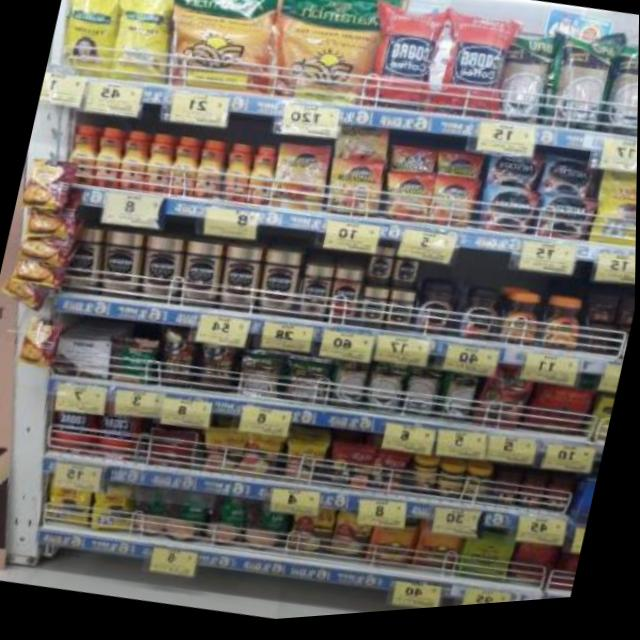Coffee: (270, 144, 333, 219), (323, 158, 386, 225), (136, 234, 186, 308), (95, 229, 143, 303), (215, 245, 263, 318), (254, 250, 301, 323), (58, 226, 105, 298), (178, 241, 225, 312), (536, 197, 594, 253), (481, 189, 537, 244), (539, 301, 588, 363), (536, 160, 595, 211), (457, 289, 505, 351), (425, 180, 478, 236), (411, 284, 460, 344), (332, 122, 390, 171), (499, 294, 545, 355), (485, 151, 541, 201), (383, 174, 433, 229), (294, 266, 334, 327), (166, 135, 203, 199), (115, 130, 152, 194), (62, 121, 99, 185), (192, 139, 228, 203), (89, 125, 125, 189), (217, 144, 254, 206), (141, 132, 176, 196), (243, 146, 278, 209), (384, 294, 415, 337), (366, 249, 396, 292), (359, 291, 389, 334), (392, 260, 421, 295)
